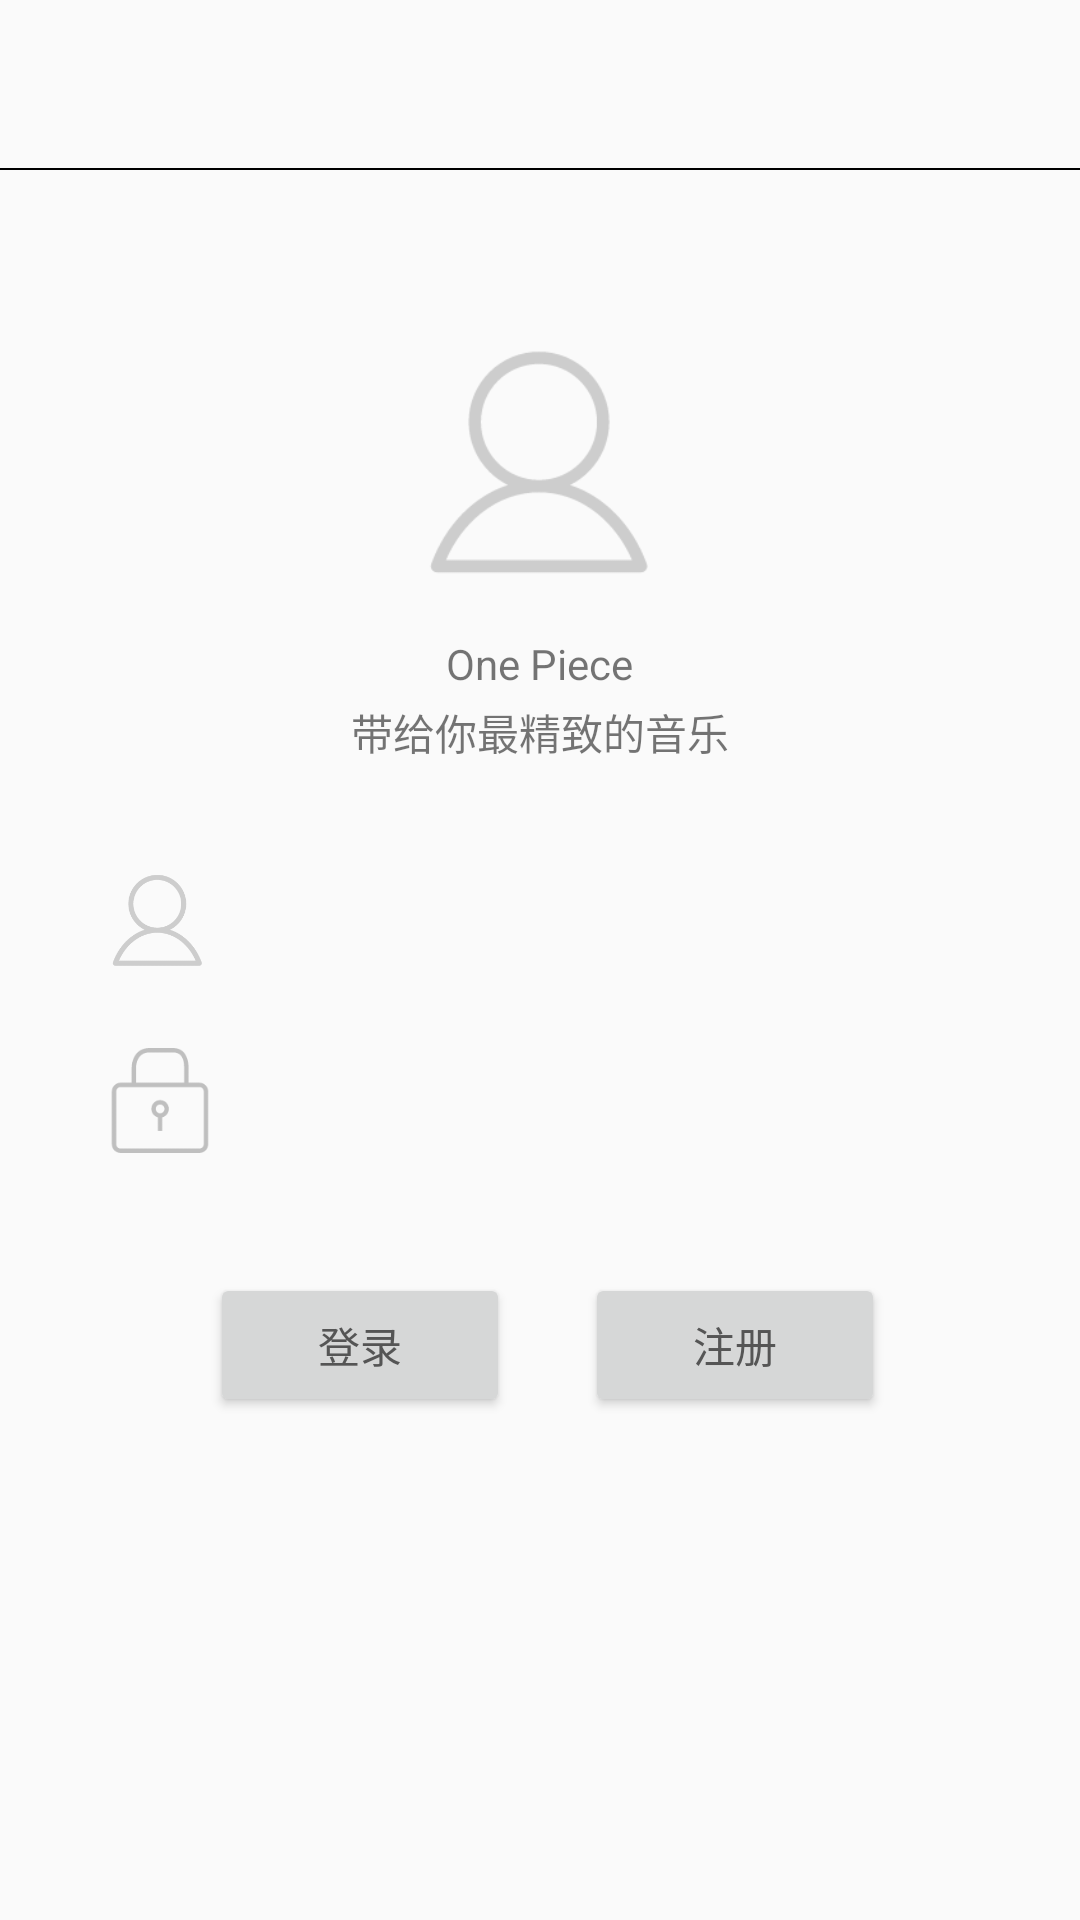

Icon click points for this 1080 x 1920 phone screenshot, format (x=x, y=y):
account: (x=539, y=462), (x=157, y=920)
lock: (x=160, y=1100)
